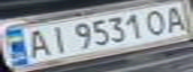1: (121, 11, 148, 39)
3: (106, 15, 130, 44)
5: (90, 17, 112, 47)
9: (69, 19, 93, 49)
A: (18, 27, 54, 60), (160, 2, 193, 33)
I: (42, 22, 72, 54)
O: (139, 7, 175, 36)
